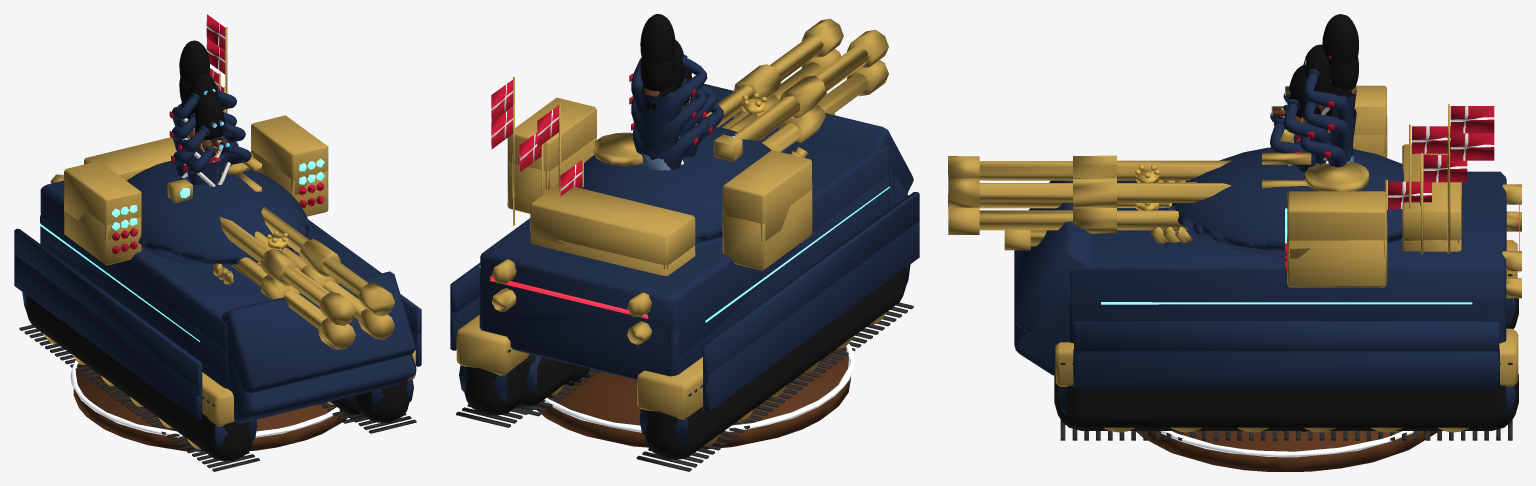
File: bjoern_kbh.glb
The picture shows the model from 3 angles, left to right: view 1: azimuth 30°, elevation 25°; view 2: azimuth 150°, elevation 25°; view 3: azimuth 270°, elevation 25°; orthographic projection. The views are drawn at different scales.
Parts seen in each view (by area): view 1: op4_net, ned4_net, fod_net, ned1.001_net, ned2_net, ned1.002_net, op4.003_net, ned2.003_net, op4.002_net, ned3.002_net, ned2.002_net, ned4.001_net (+1 smaller); view 2: op4_net, ned4_net, fod_net, ned3.002_net, op4.002_net, ned4.001_net, op4.003_net, ned2_net, ned3_net, ned4.002_net, ned1_net, ned2.003_net; view 3: op4_net, ned4_net, fod_net, ned2_net, ned3.002_net, op4.003_net, ned4.001_net, op4.002_net, ned2.003_net, ned1_net, ned1.001_net, ned2.002_net (+3 smaller).
Boxes of the visible parts, <box> form: op4_net: <box>14,14,421,426</box>; ned4_net: <box>14,38,421,471</box>; fod_net: <box>70,360,346,451</box>; ned1.001_net: <box>184,137,251,186</box>; ned2_net: <box>184,68,299,284</box>; ned1.002_net: <box>194,97,224,157</box>; op4.003_net: <box>179,40,209,83</box>; ned2.003_net: <box>178,120,245,178</box>; op4.002_net: <box>169,88,236,130</box>; ned3.002_net: <box>221,86,364,446</box>; ned2.002_net: <box>188,73,218,114</box>; ned4.001_net: <box>169,112,236,177</box>; op4_net: <box>450,18,919,419</box>; ned4_net: <box>450,49,919,471</box>; fod_net: <box>537,343,854,449</box>; ned3.002_net: <box>514,113,834,442</box>; op4.002_net: <box>629,54,707,170</box>; ned4.001_net: <box>629,78,707,164</box>; op4.003_net: <box>640,14,675,63</box>; ned2_net: <box>525,102,807,397</box>; ned3_net: <box>631,103,708,169</box>; ned4.002_net: <box>640,57,675,96</box>; ned1_net: <box>560,157,589,386</box>; ned2.003_net: <box>679,84,717,158</box>; op4_net: <box>948,85,1521,386</box>; ned4_net: <box>948,116,1521,440</box>; fod_net: <box>1136,431,1437,471</box>; ned2_net: <box>1150,124,1450,432</box>; ned3.002_net: <box>1004,153,1467,254</box>; op4.003_net: <box>1322,14,1358,63</box>; ned4.001_net: <box>1303,100,1356,163</box>; op4.002_net: <box>1303,68,1356,162</box>; ned2.003_net: <box>1283,93,1331,164</box>; ned1_net: <box>1385,180,1431,210</box>; ned1.001_net: <box>1270,105,1316,172</box>; ned2.002_net: <box>1303,44,1331,111</box>.
Size of the model in its own units: 1.94 by 2.42 by 3.24.
